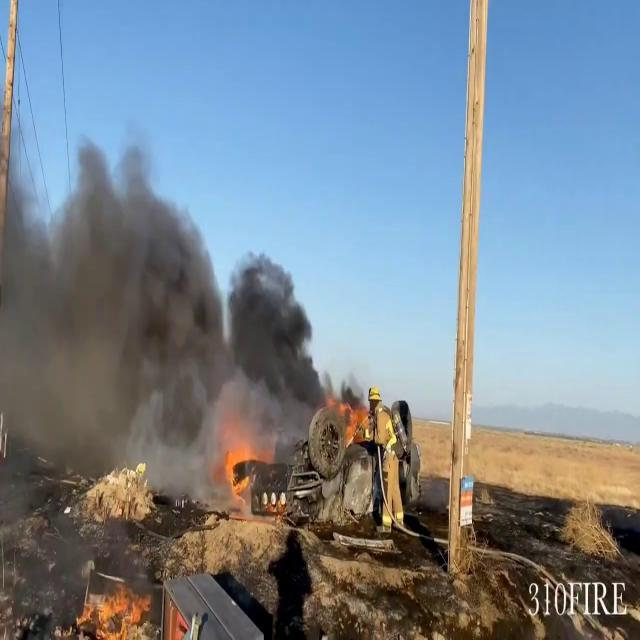Smoke: (1, 121, 343, 488)
